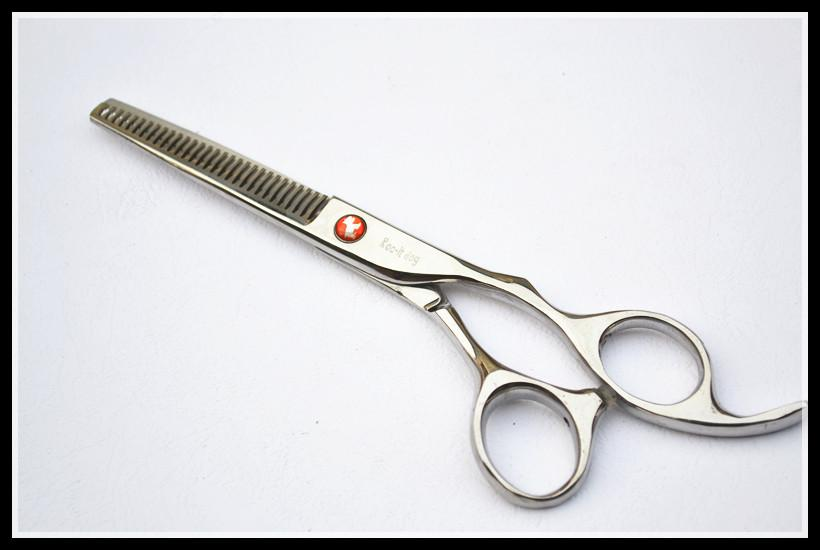scissor: (63, 94, 787, 522)
